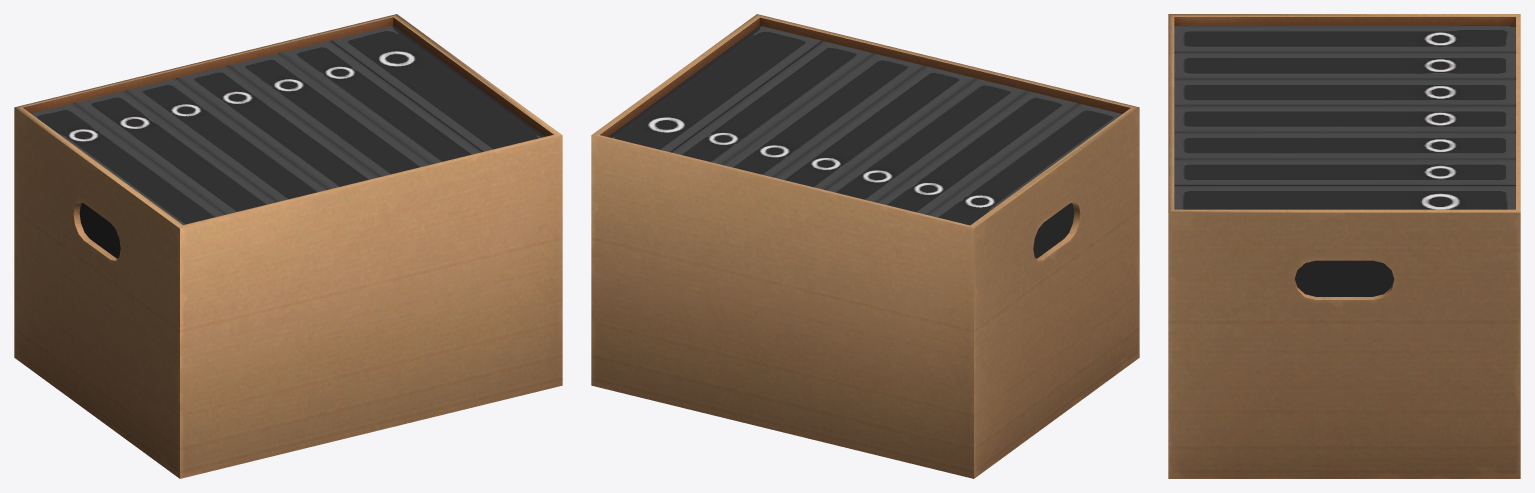
File: OfficeBox01__3.fbx
3 views of the same model, side by side, from view 1: azimuth 30°, elevation 25°; view 2: azimuth 150°, elevation 25°; view 3: azimuth 270°, elevation 25° (orthographic). The views are drawn at different scales.
Parts seen in each view (by area): view 1: OfficeBox01A; view 2: OfficeBox01A; view 3: OfficeBox01A.
Boxes of the visible parts, <box> form: OfficeBox01A: <box>14,14,562,478</box>; OfficeBox01A: <box>591,14,1139,478</box>; OfficeBox01A: <box>1168,14,1520,478</box>.
Bounding box in the file's own units: 0.4 × 0.25 × 0.3.
1 material, 1 textured.
